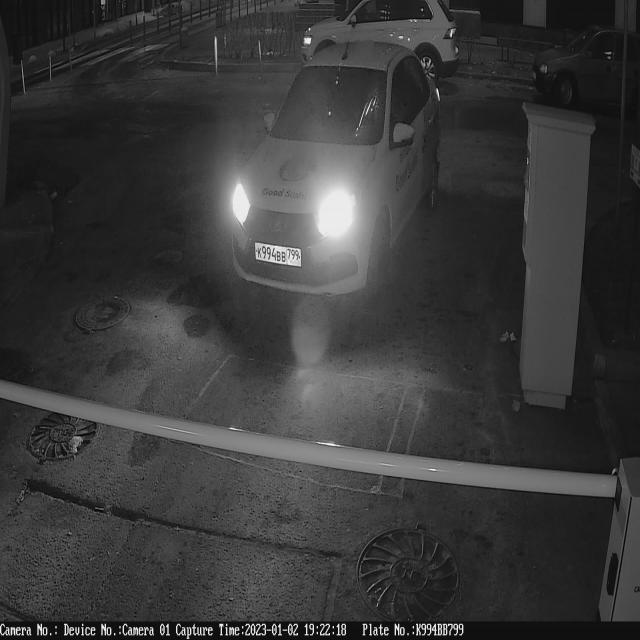car-plate-numbers: (254, 239, 305, 272)
